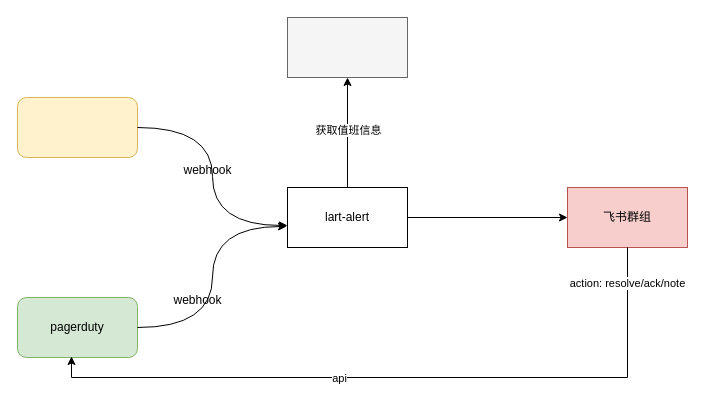
This 705x403 diagram has some shape labels left out. The centre of each missing label's shape, as x and y in pixels:
"alertmanager" belongs at [77,127].
"飞书值班" belongs at [347,47].
